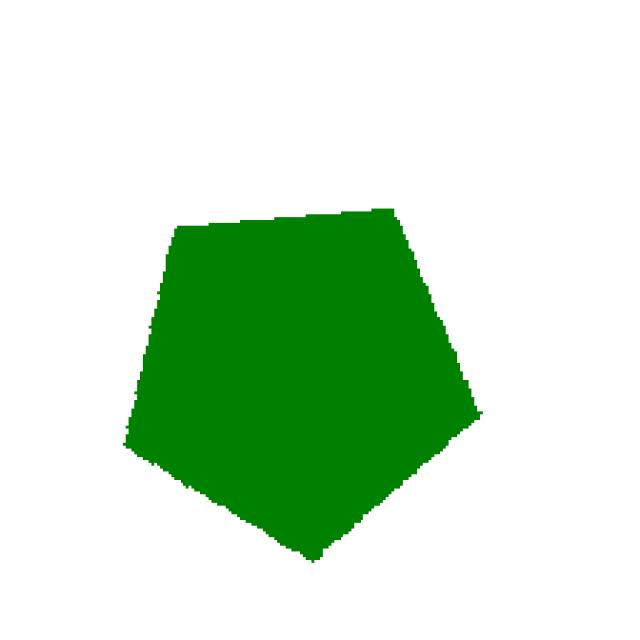Pentagon: (89, 176, 492, 578)
